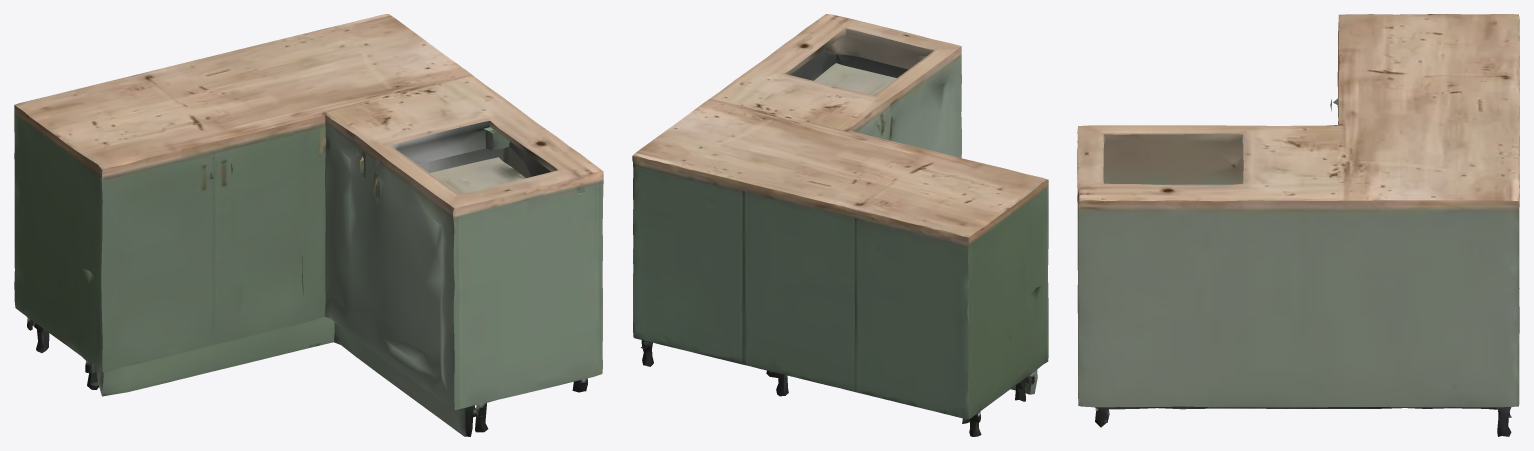
Rendered from kitchen.glb.
3 views of the same model, side by side, from view 1: azimuth 30°, elevation 25°; view 2: azimuth 150°, elevation 25°; view 3: azimuth 270°, elevation 25° (orthographic). The views are drawn at different scales.
Parts seen in each view (by area): view 1: geometry_0; view 2: geometry_0; view 3: geometry_0.
Boxes of the visible parts, bbox=[...] form: geometry_0: bbox=[14, 14, 603, 436]; geometry_0: bbox=[632, 14, 1048, 436]; geometry_0: bbox=[1077, 14, 1519, 436].
Size of the model in its own units: 1.8 by 1.08 by 1.8.
1 material, 1 textured.
